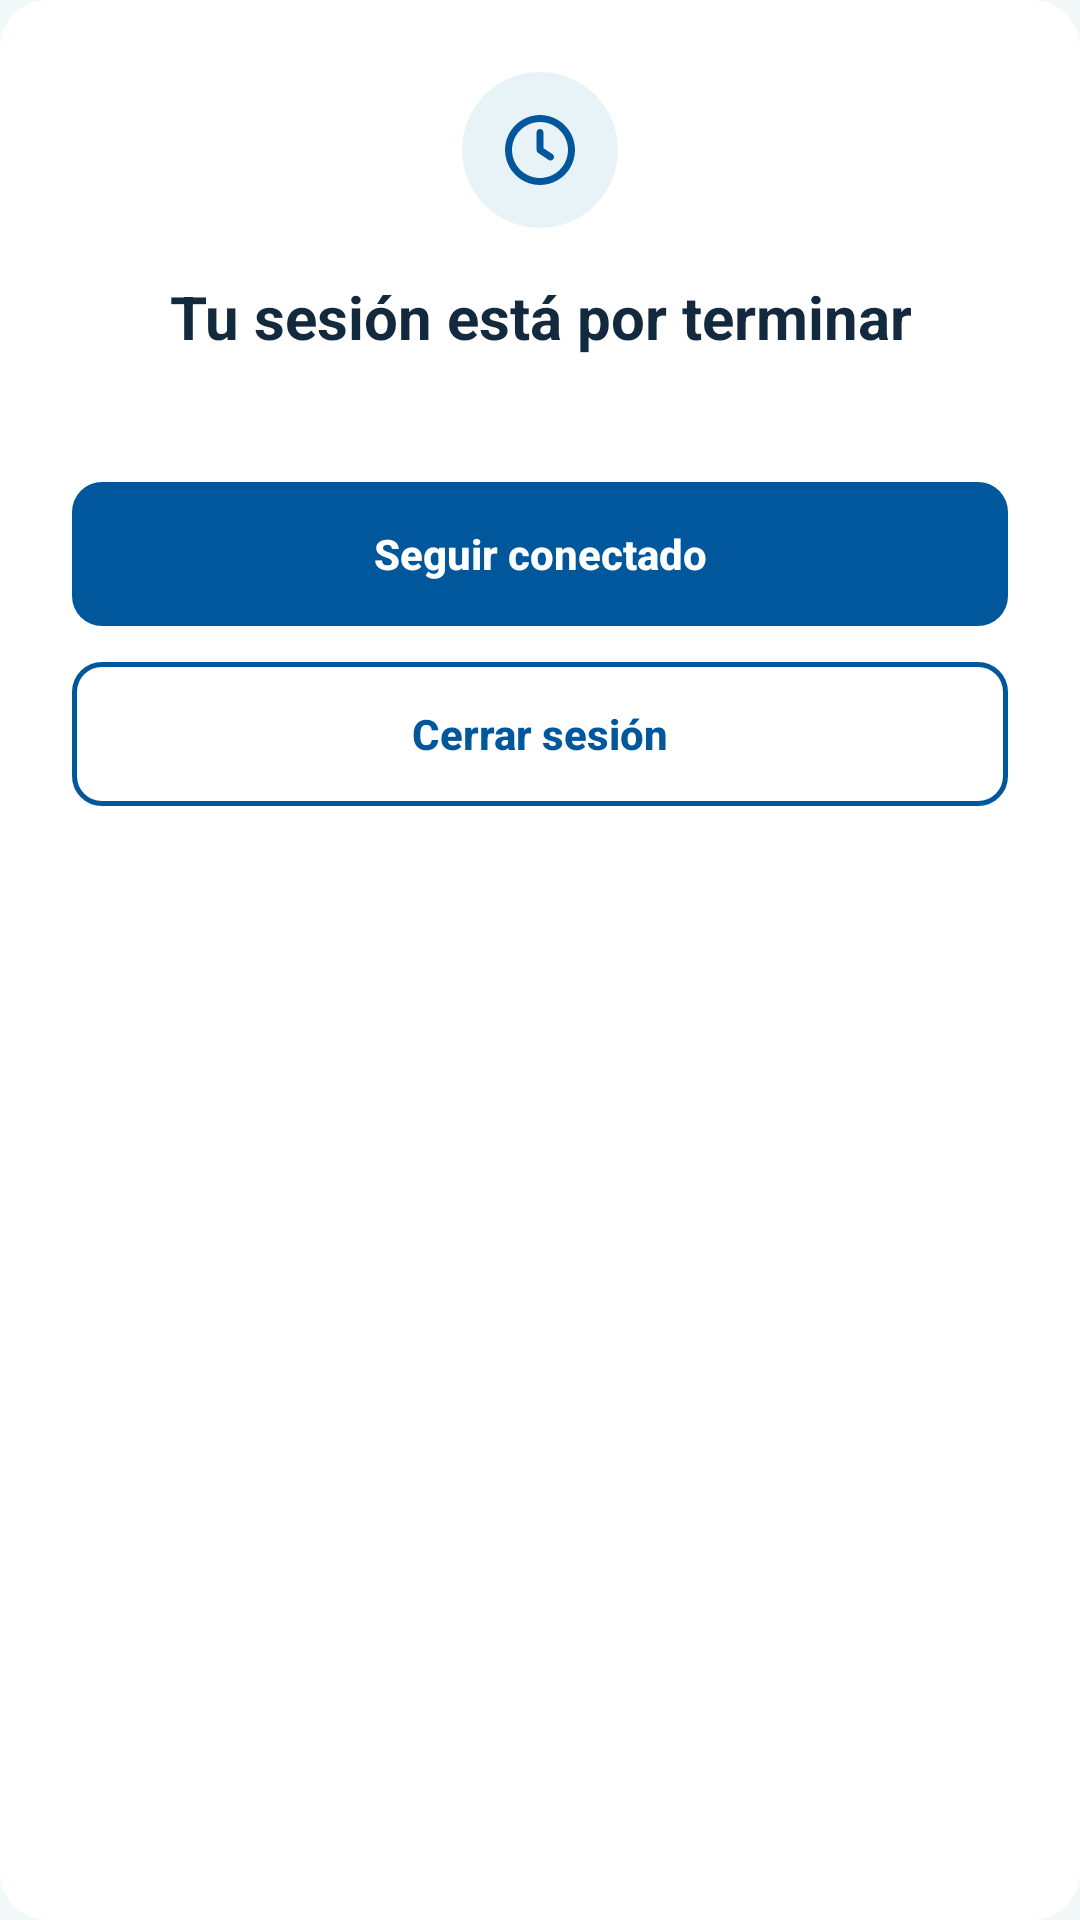

Named icons in this screenshot (1080 x 1920) and their centers, (x=x, y=y):
reloj: (x=540, y=150)
